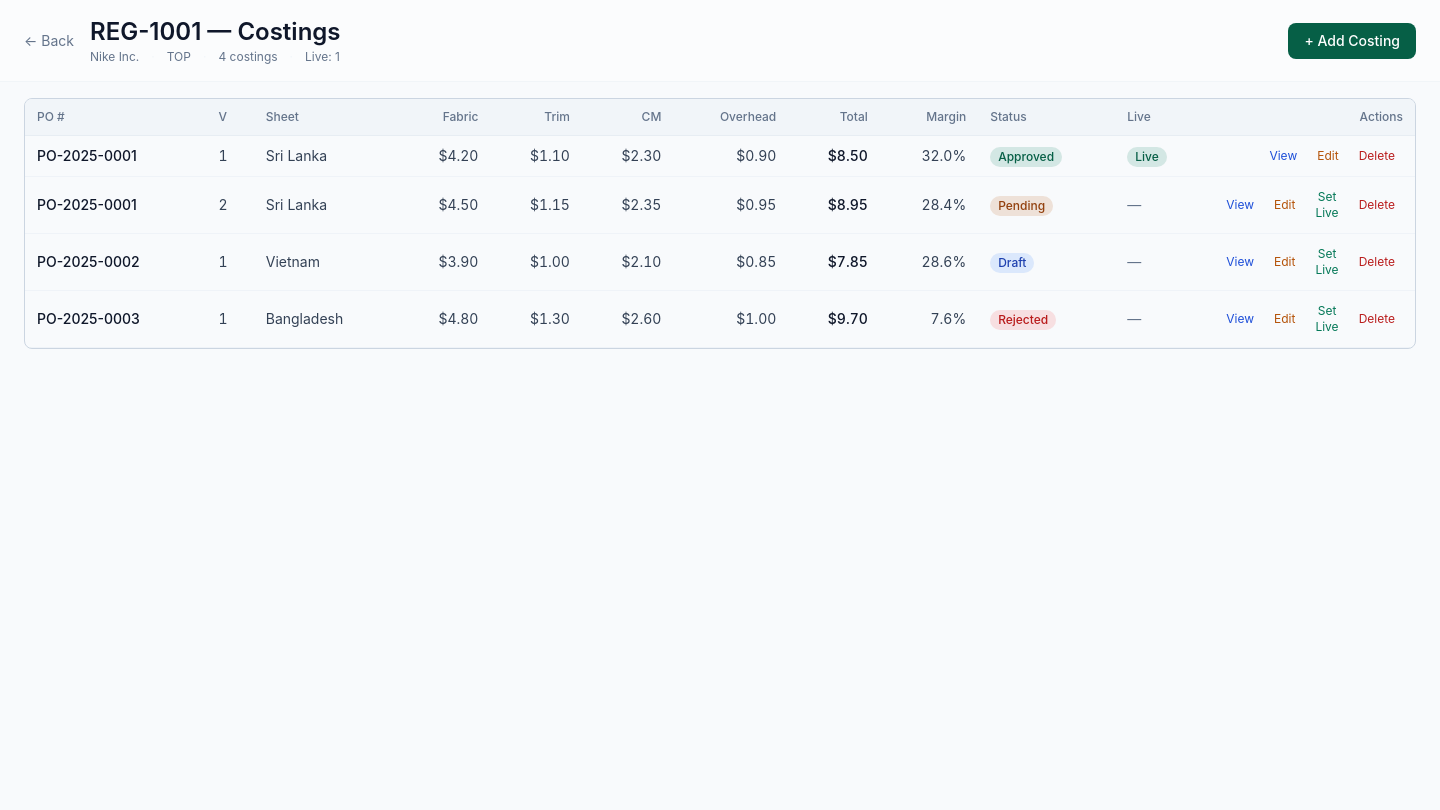
Scenario: DesignCostingsPage › edits an existing costing
The image size is (1440, 810).
Expected: the text "4 costings" is shown, top-left (218, 49), bottom-right (278, 65)
Click the button "Edit" in the row of "$4.20" at (1328, 156), box top-left (1309, 144), bottom-right (1347, 168)
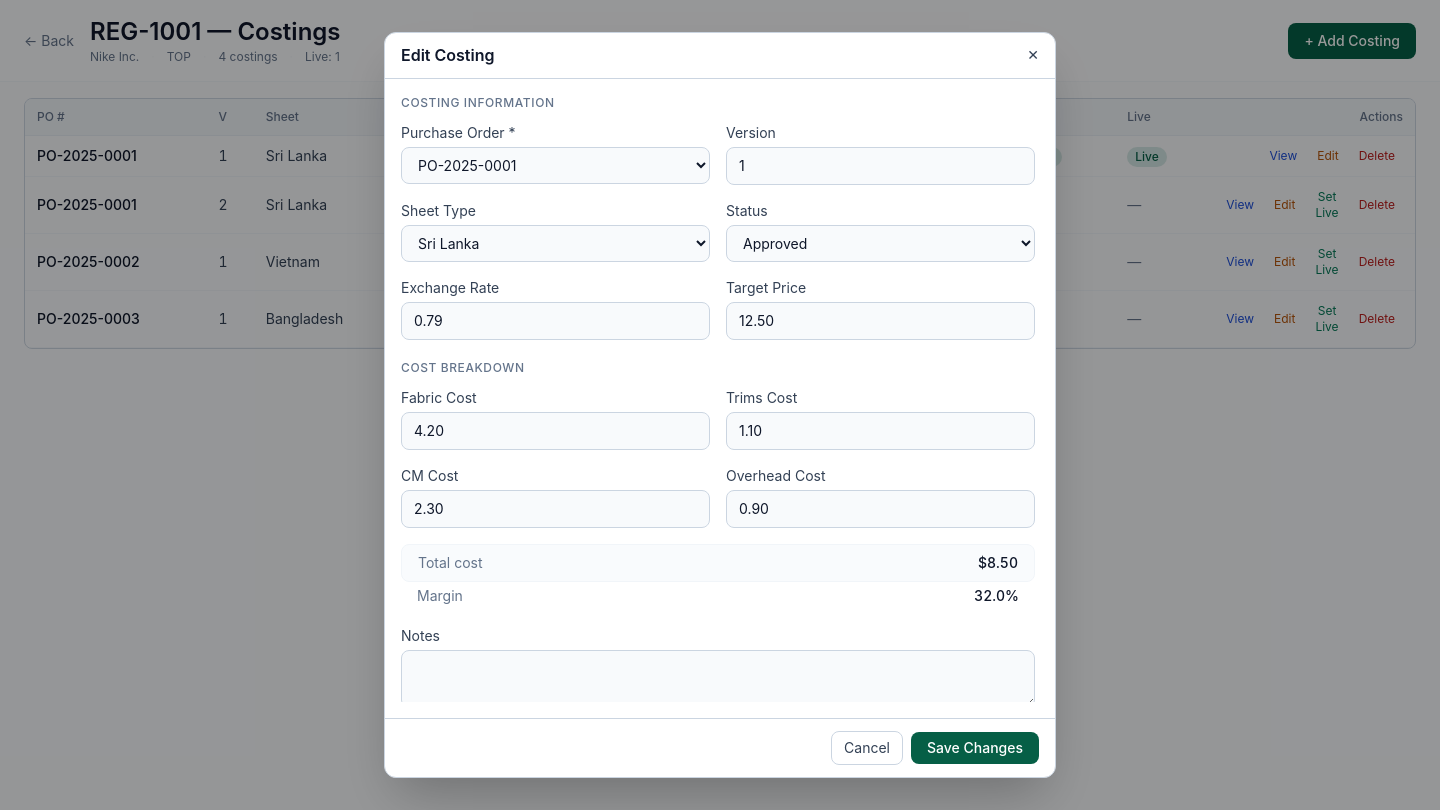
Replace the text in the number field labelled "Fabric Cost" with "5.55" at (556, 431), box top-left (401, 412), bottom-right (710, 450)
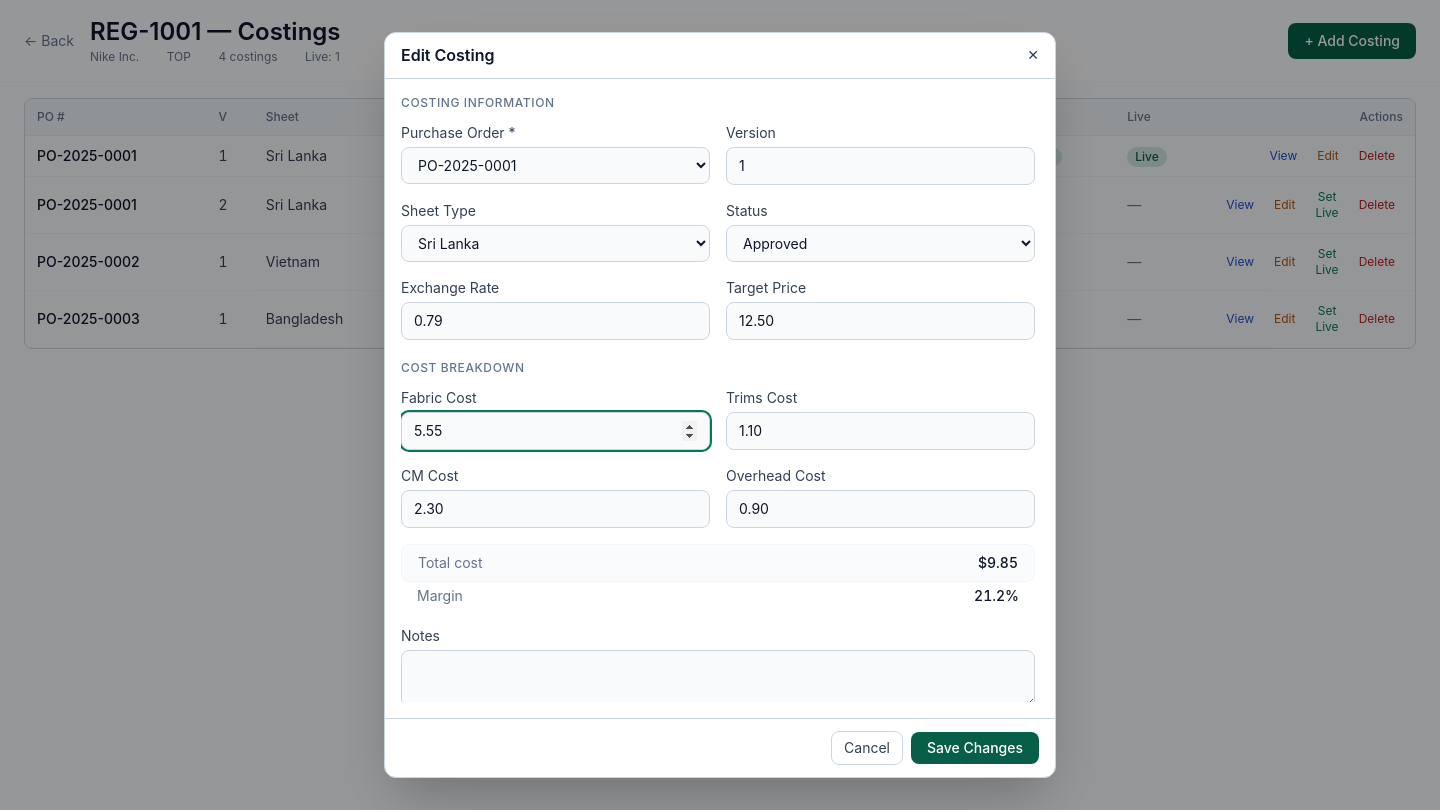
Click the button "Save Changes" at (975, 748), box top-left (911, 732), bottom-right (1039, 764)
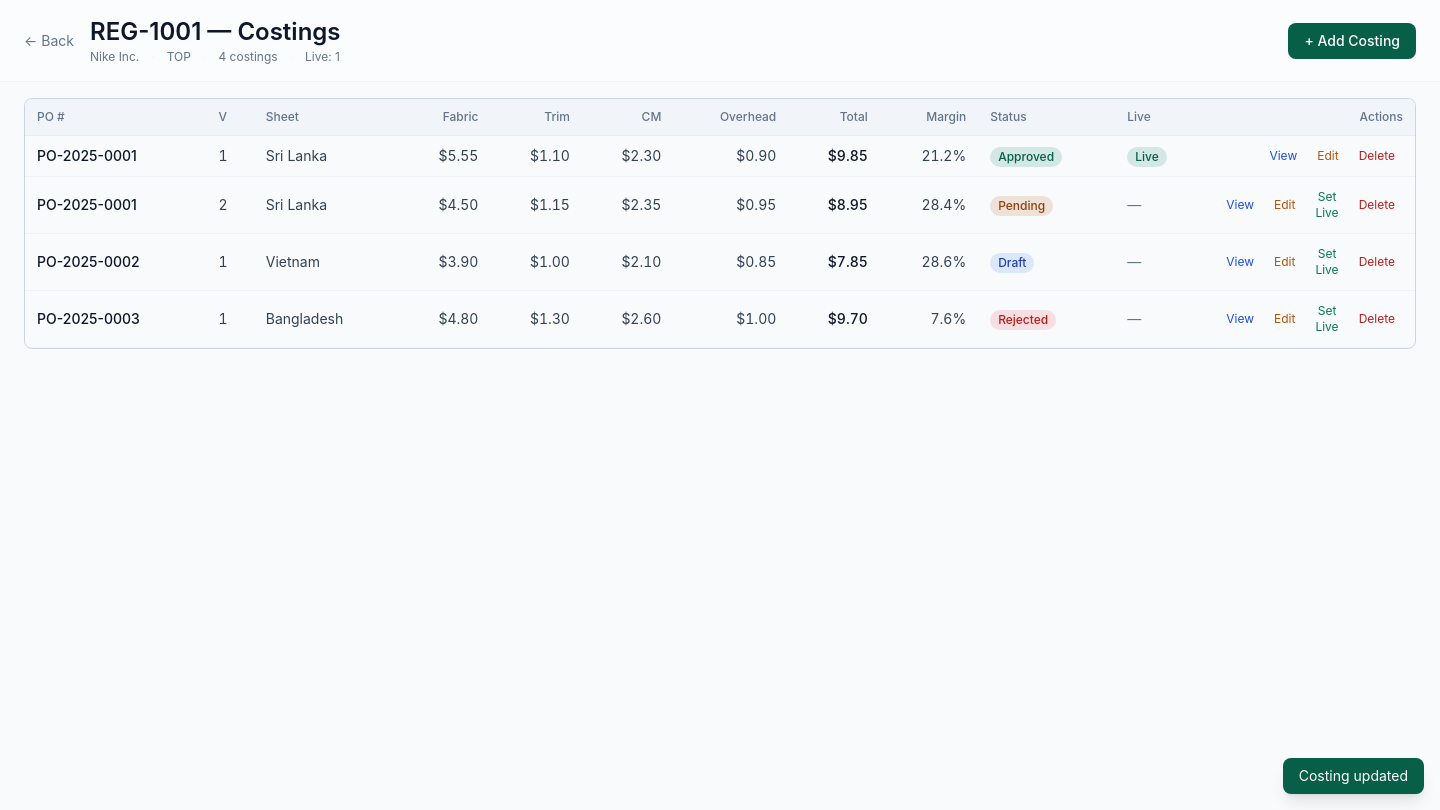
Now the heading "Edit Costing" is gone
Now the text "$9.85" is shown, box top-left (788, 136), bottom-right (880, 177)
Now the text "$8.50" is gone
